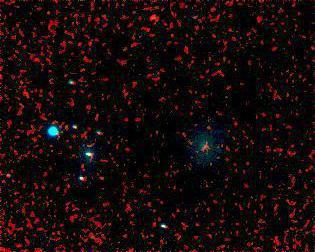star: (136, 1, 166, 31)
